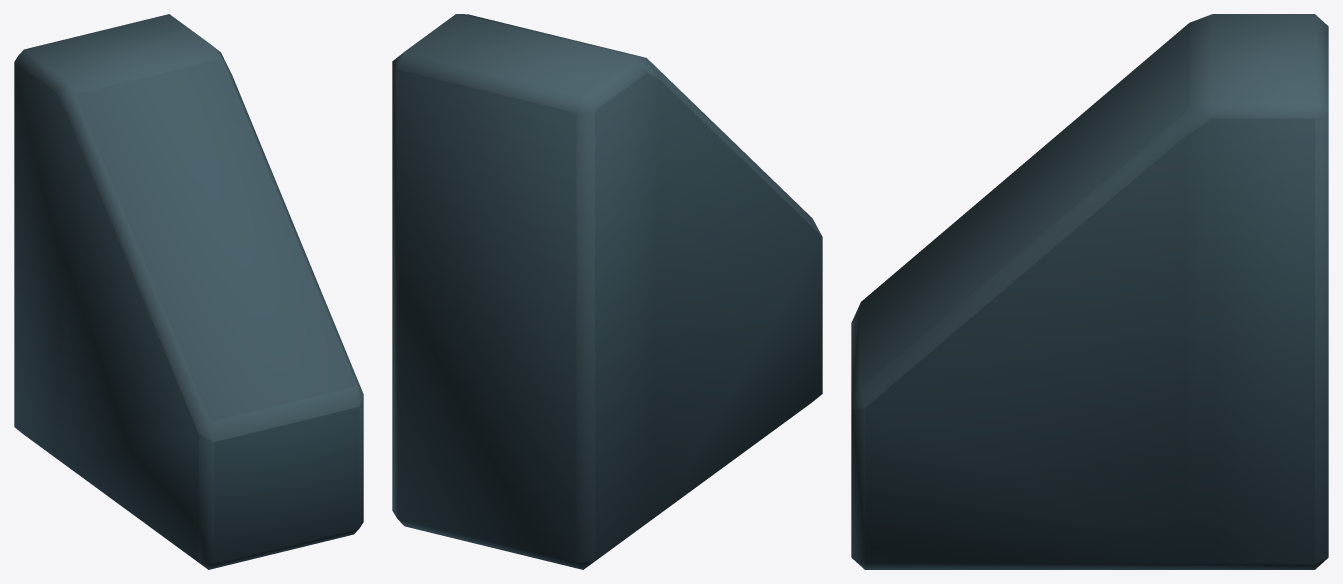
File: stair_sidewall.fbx
3 renders of one model, left to right at view 1: azimuth 30°, elevation 25°; view 2: azimuth 150°, elevation 25°; view 3: azimuth 270°, elevation 25°, orthographic. The views are drawn at different scales.
Visible parts, largest first — view 1: stair_sidewall; view 2: stair_sidewall; view 3: stair_sidewall.
Boxes of the visible parts, x1,y1,x2,y2 form: stair_sidewall: [14, 14, 363, 569]; stair_sidewall: [392, 14, 822, 569]; stair_sidewall: [851, 14, 1328, 569].
Size of the model in its own units: 53.12 by 119 by 109.
